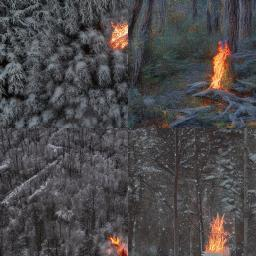Small fire: (206, 42, 235, 94), (202, 215, 225, 256), (105, 235, 129, 256), (109, 22, 127, 46)
